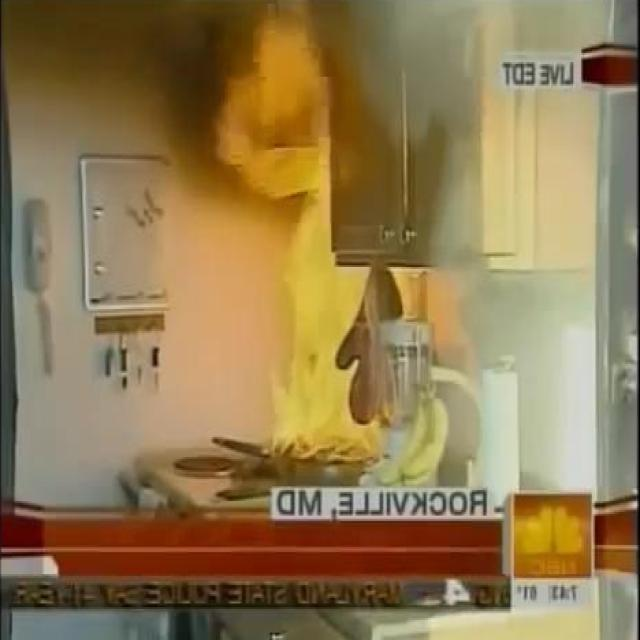fire: (340, 0, 498, 141)
smoke: (218, 16, 406, 461)
